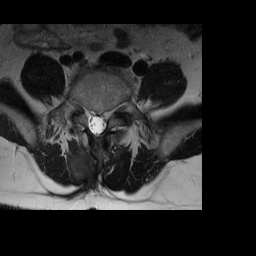CCS_normal: (93, 104, 100, 142)
LFS_stenosis: (107, 100, 115, 121)
LLS_normal: (100, 104, 107, 137)
RFS_stenosis: (79, 98, 87, 123)
RLS_normal: (87, 102, 93, 137)
